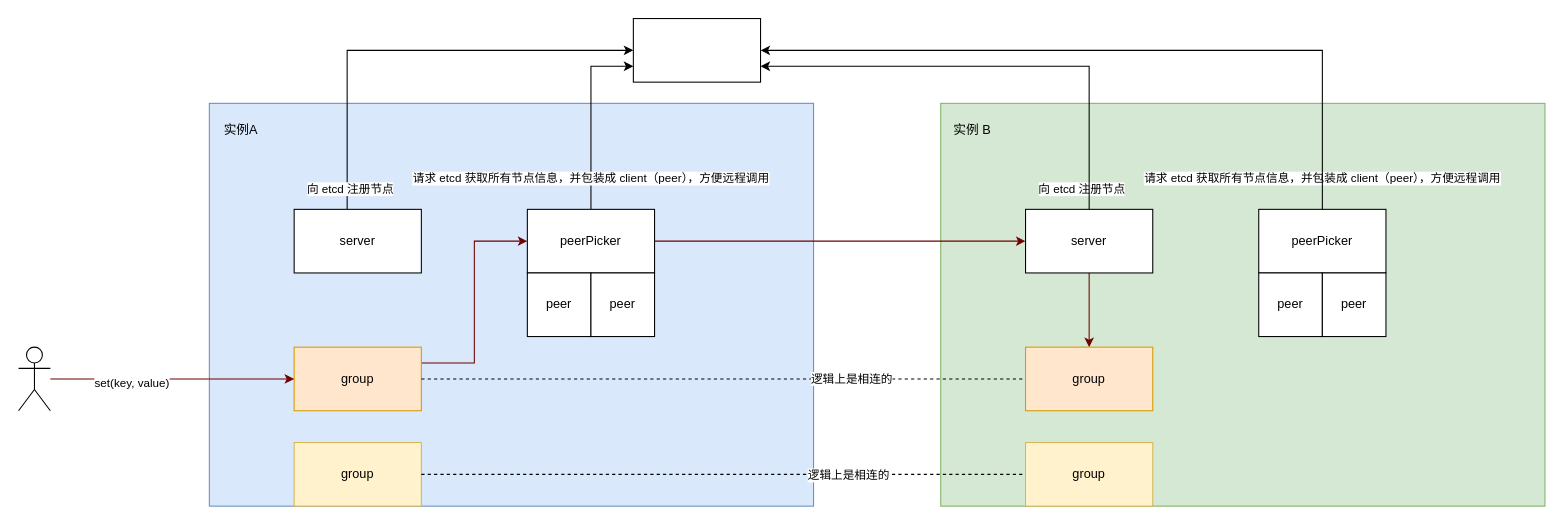
The diagram is 1563 pixels wide and 525 high, and some of its shapes have lost their labels. Each missing label, with the centre of its shape:
"Actor" belongs at (x=33, y=378).
"register" belongs at (x=696, y=49).
